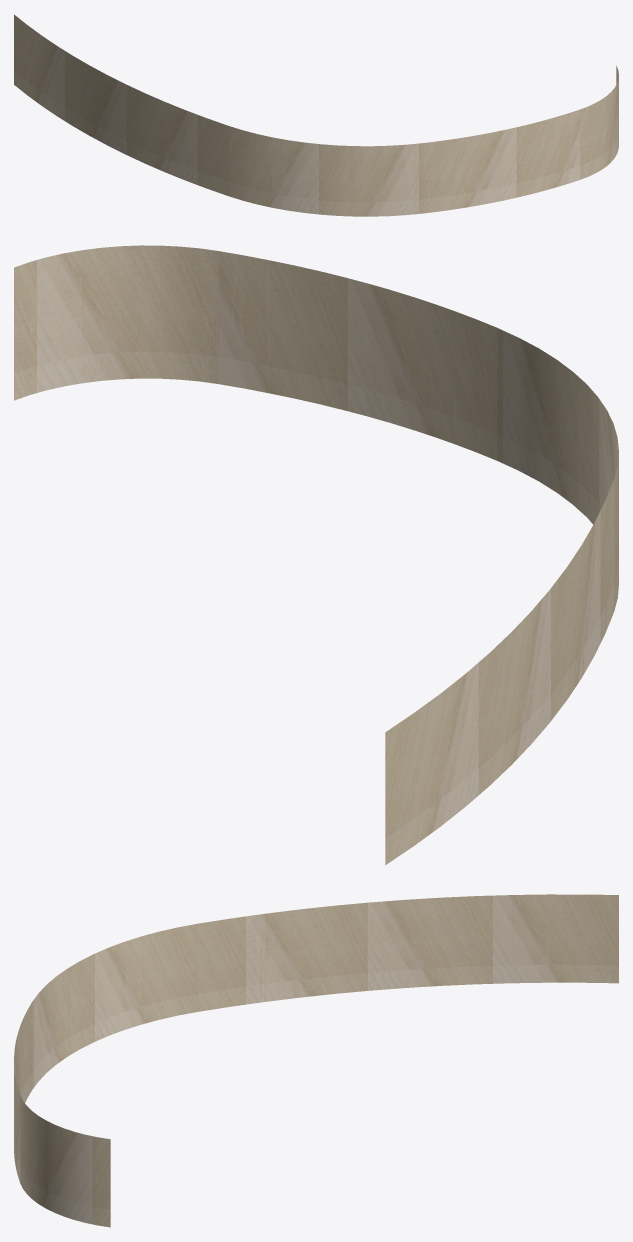
Rendered from original-85.obj.
The picture shows the model from 3 angles, top to bottom: view 1: azimuth 30°, elevation 25°; view 2: azimuth 150°, elevation 25°; view 3: azimuth 270°, elevation 25°; orthographic projection. The views are drawn at different scales.
Visible parts, largest first — view 1: mesh39/mesh39-geometry/material_1/component_0#mesh39-geometry; view 2: mesh39/mesh39-geometry/material_1/component_0#mesh39-geometry; view 3: mesh39/mesh39-geometry/material_1/component_0#mesh39-geometry.
Boxes of the visible parts, box(x1,y1,x2,y2) form: mesh39/mesh39-geometry/material_1/component_0#mesh39-geometry: box(14, 14, 618, 216); mesh39/mesh39-geometry/material_1/component_0#mesh39-geometry: box(14, 245, 618, 864); mesh39/mesh39-geometry/material_1/component_0#mesh39-geometry: box(14, 894, 618, 1227).
Size of the model in its own units: 0.3026 by 0.0509 by 0.3161.
